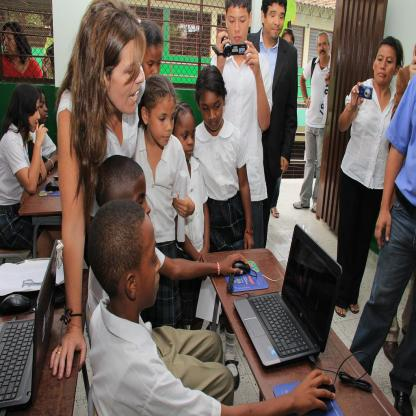board: (227, 231, 343, 376), (0, 241, 57, 409)
